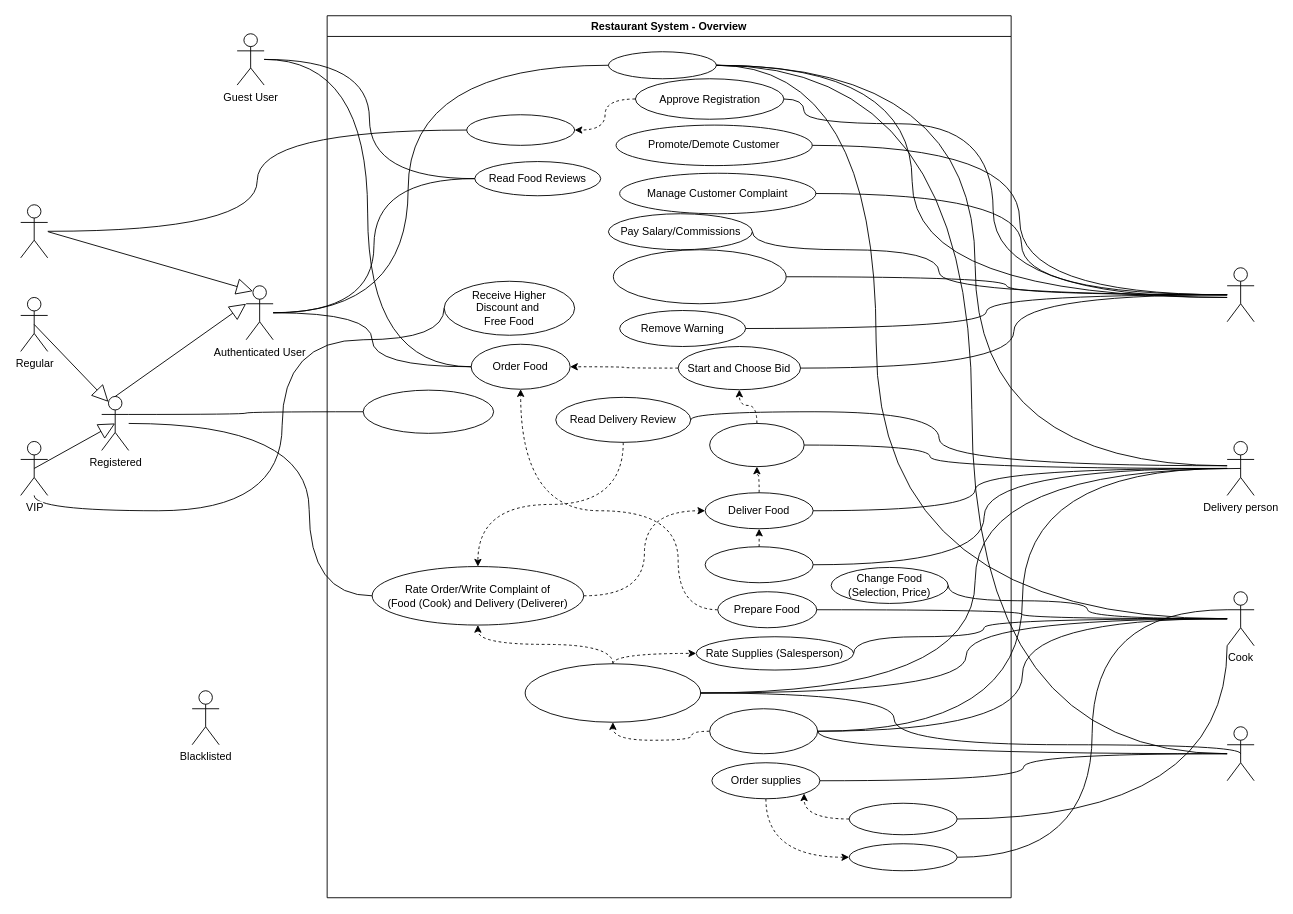
Image size: 1293x914. Some labels were removed from this diagram. The centre of each missing label's shape, as x and y in pixels:
"Bid Delivery" goes at [756,445].
"Login" goes at [662,65].
"Manager" goes at [1240,294].
"Promote/Demote Staff (Commission Increase/Decrease)" goes at [699,276].
"Rate Customer" goes at [758,564].
"Rate Supplier" goes at [902,857].
"Receive Discount" goes at [428,411].
"Receive Ratings/Warnings" goes at [612,692].
"Receive Salary/ Commissions" goes at [763,731].
"Register" goes at [520,129].
"Request supplier" goes at [902,818].
"Salesperson" goes at [1240,753].
"Visitor" goes at [34,231].
